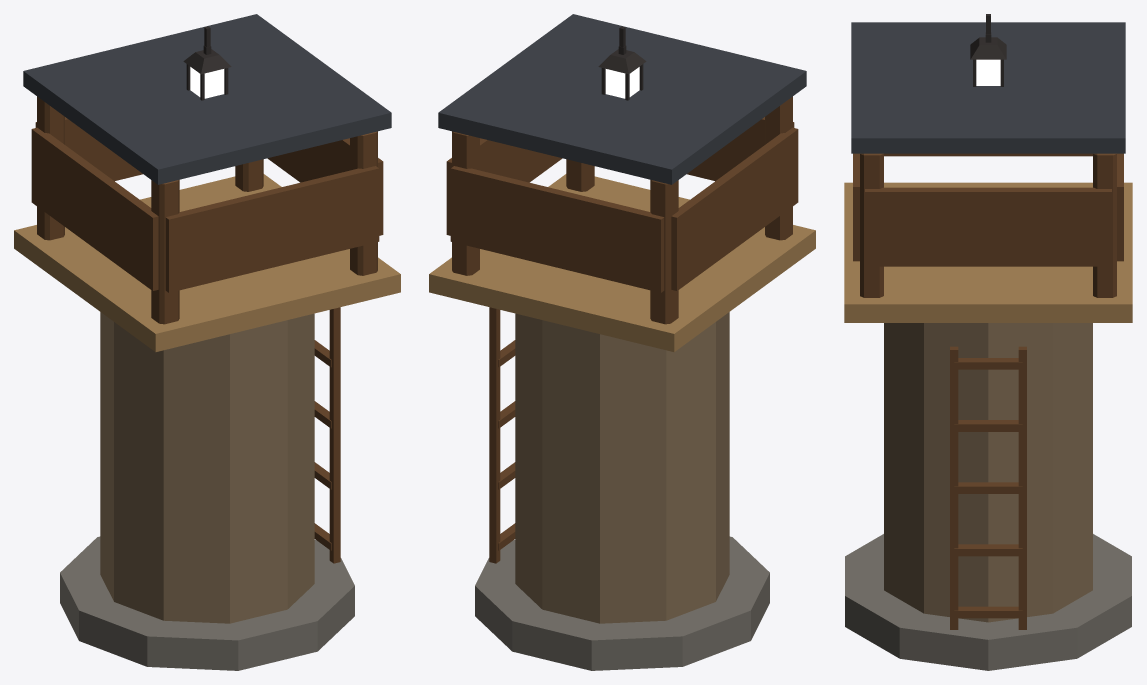
File: SceneLookout.glb
The picture shows the model from 3 angles, left to right: view 1: azimuth 30°, elevation 25°; view 2: azimuth 150°, elevation 25°; view 3: azimuth 270°, elevation 25°; orthographic projection.
Visible parts, largest first — view 1: Body, Glow; view 2: Body, Glow; view 3: Body, Glow.
Part boxes in pixels (x1,y1,x2,y2): Body: (14, 14, 400, 670); Glow: (190, 67, 224, 98); Body: (429, 14, 815, 670); Glow: (605, 67, 639, 98); Body: (844, 14, 1132, 670); Glow: (976, 59, 1000, 85).
Size of what is drawn, in the model's own units: 4.4 by 9.52 by 4.2.
